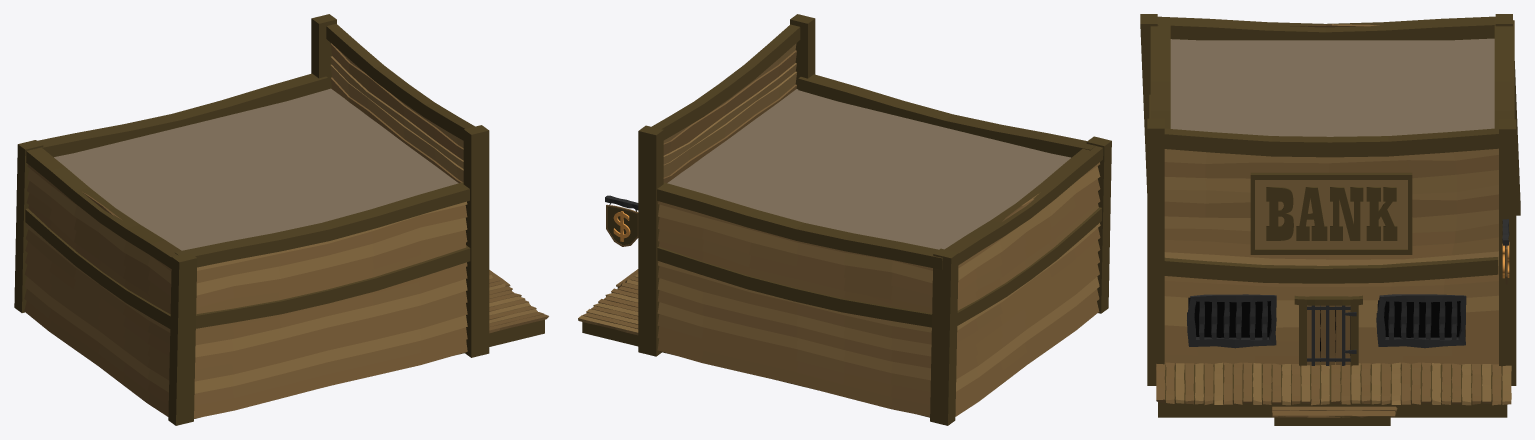
File: BuildingBank.fbx
The picture shows the model from 3 angles, left to right: view 1: azimuth 30°, elevation 25°; view 2: azimuth 150°, elevation 25°; view 3: azimuth 270°, elevation 25°; orthographic projection. The views are drawn at different scales.
Parts seen in each view (by area): view 1: Cube.217; view 2: Cube.217; view 3: Cube.217.
Part boxes in pixels (x1,y1,x2,y2): Cube.217: (14,14,548,425); Cube.217: (578,14,1111,425); Cube.217: (1140,14,1520,425).
Bounding box in the file's own units: 1185 × 650 × 871.
